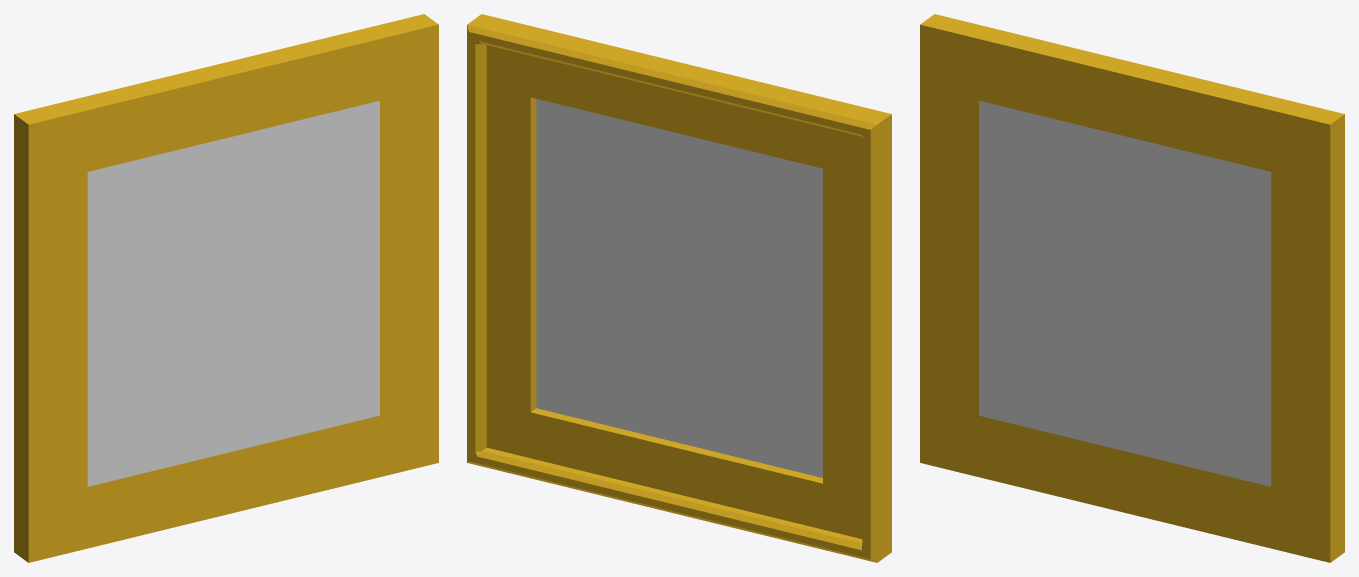
Rendered from frame_14x14.fbx.
3 renders of one model, left to right at view 1: azimuth 30°, elevation 25°; view 2: azimuth 150°, elevation 25°; view 3: azimuth 330°, elevation 25°, orthographic.
Visible parts, largest first — view 1: Painting_14x14; view 2: Painting_14x14; view 3: Painting_14x14.
Boxes of the visible parts, x1,y1,x2,y2 form: Painting_14x14: (14, 14, 438, 562); Painting_14x14: (467, 14, 891, 562); Painting_14x14: (920, 14, 1344, 562).
Bounding box in the file's own units: 0.3483 × 0.3556 × 0.025.
